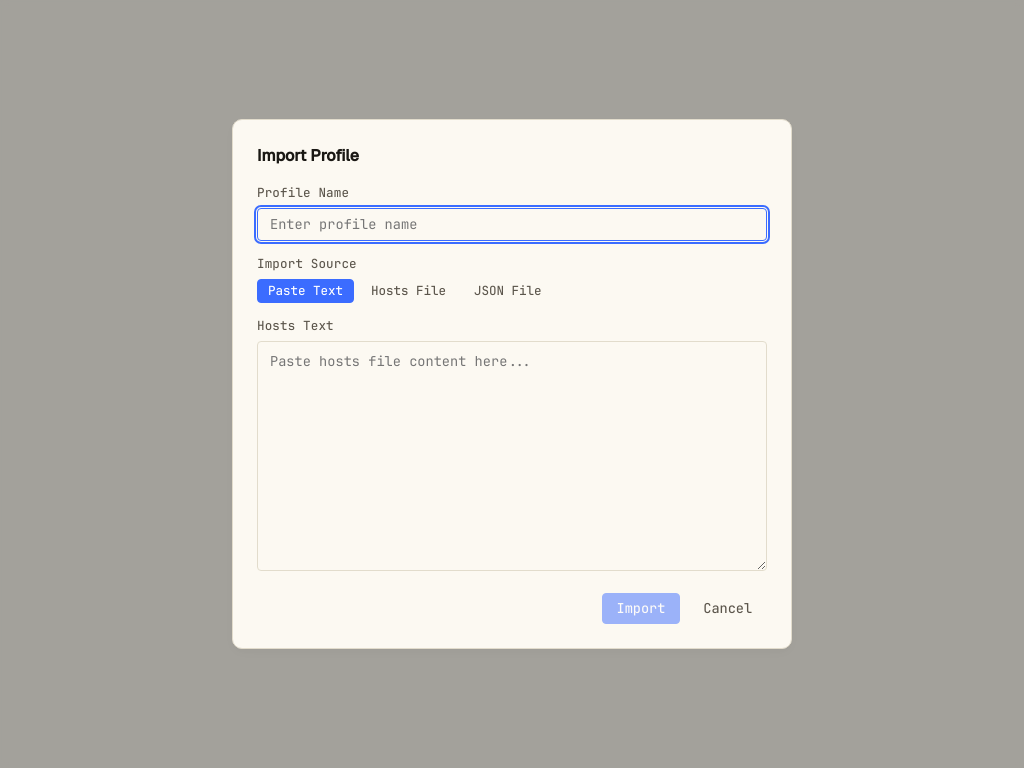
Test: ImportDialog › validates pasted hosts text before import
# Enter a name
Type "my-import" into the field labelled "Profile Name" at (512, 224), box [257,208,767,241]
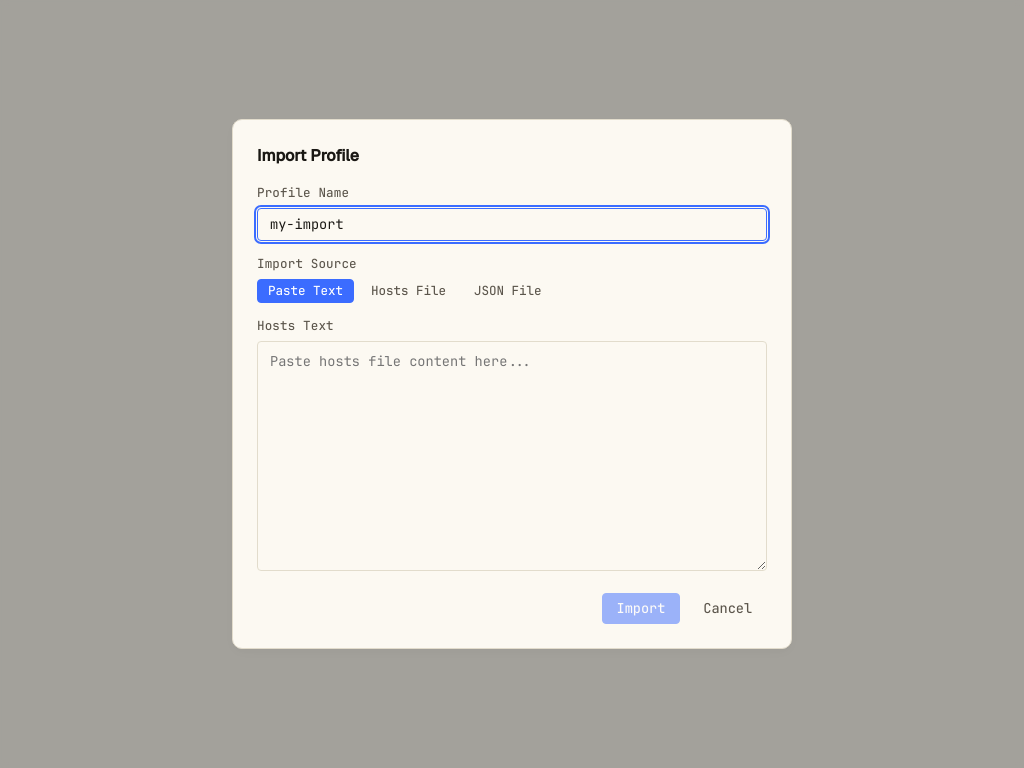
# Paste hosts text
Type "127.0.0.1 localhost" into the text box with placeholder "Paste hosts file content here..." at (512, 456), box [257,341,767,571]
Wait 350 ms
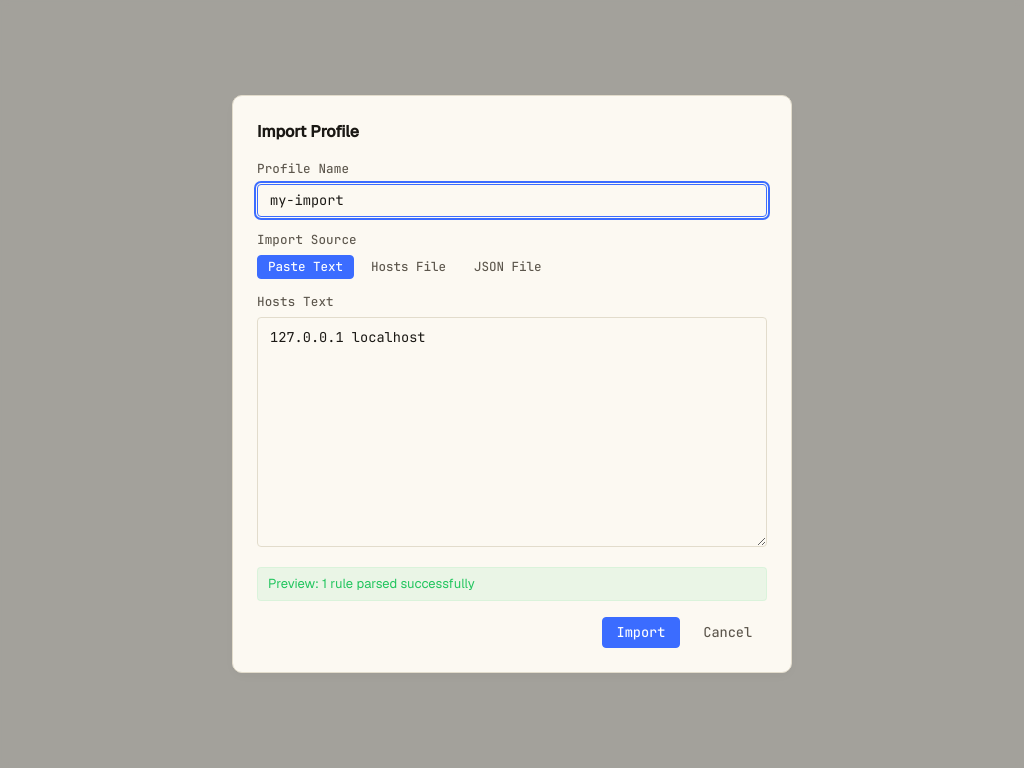
Expected: the text "Preview: 1 rule parsed successfully" is shown, [257,567,767,601]
Expected: the button "Import" is enabled, [602,617,680,648]
